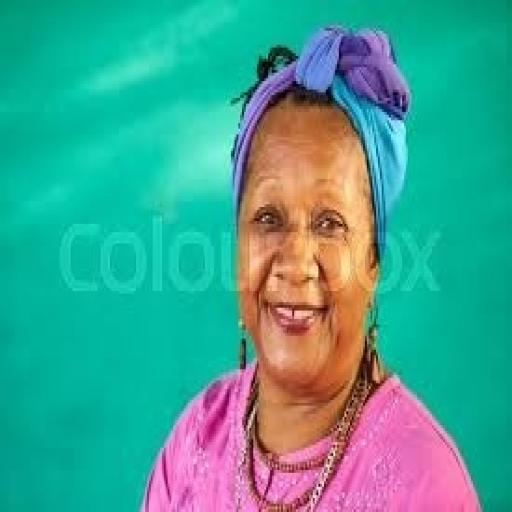laughing: (132, 20, 486, 509)
